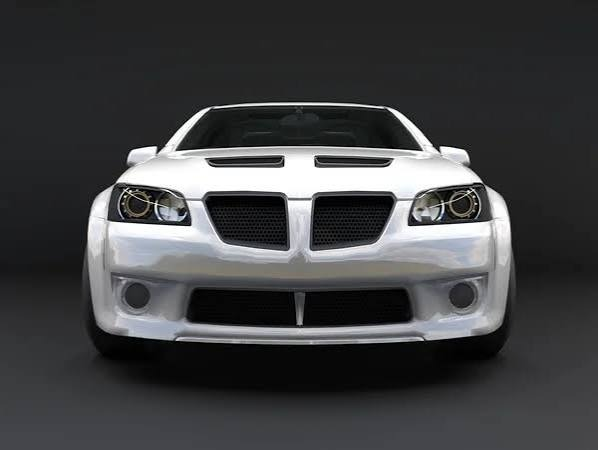car: (60, 110, 520, 366)
